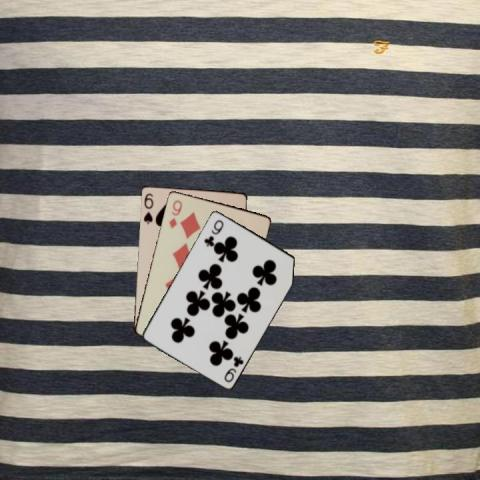6s: (140, 190, 154, 225)
9c: (200, 216, 224, 247), (220, 353, 244, 383)
9d: (166, 197, 183, 230)
